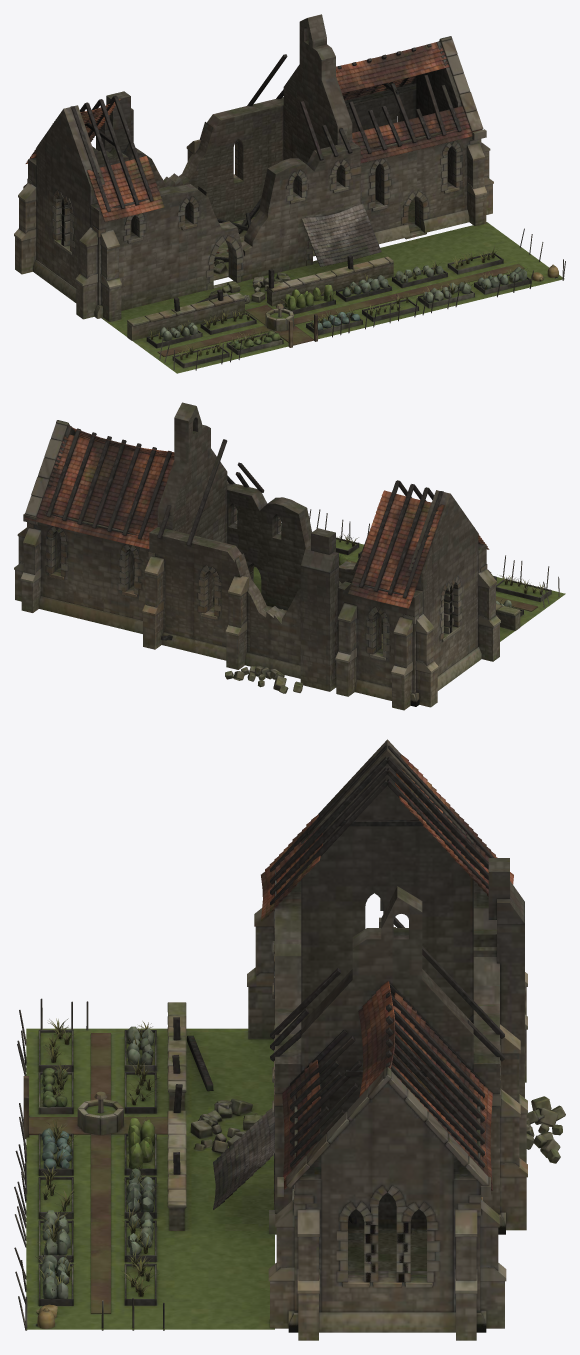
Rendered from temple_ruin.glb.
The picture shows the model from 3 angles, top to bottom: view 1: azimuth 30°, elevation 25°; view 2: azimuth 150°, elevation 25°; view 3: azimuth 270°, elevation 25°; orthographic projection. The views are drawn at different scales.
Visible parts, largest first — view 1: temple_ruin_LOD0; view 2: temple_ruin_LOD0; view 3: temple_ruin_LOD0.
Part boxes in pixels (box(x1,y1,x2,y2)): temple_ruin_LOD0: box(14, 14, 565, 373); temple_ruin_LOD0: box(14, 402, 565, 710); temple_ruin_LOD0: box(14, 739, 565, 1340).
Size of what is drawn, in the model's own units: 23.13 by 11.45 by 16.66.
Materials: 1 (1 with a texture image).
